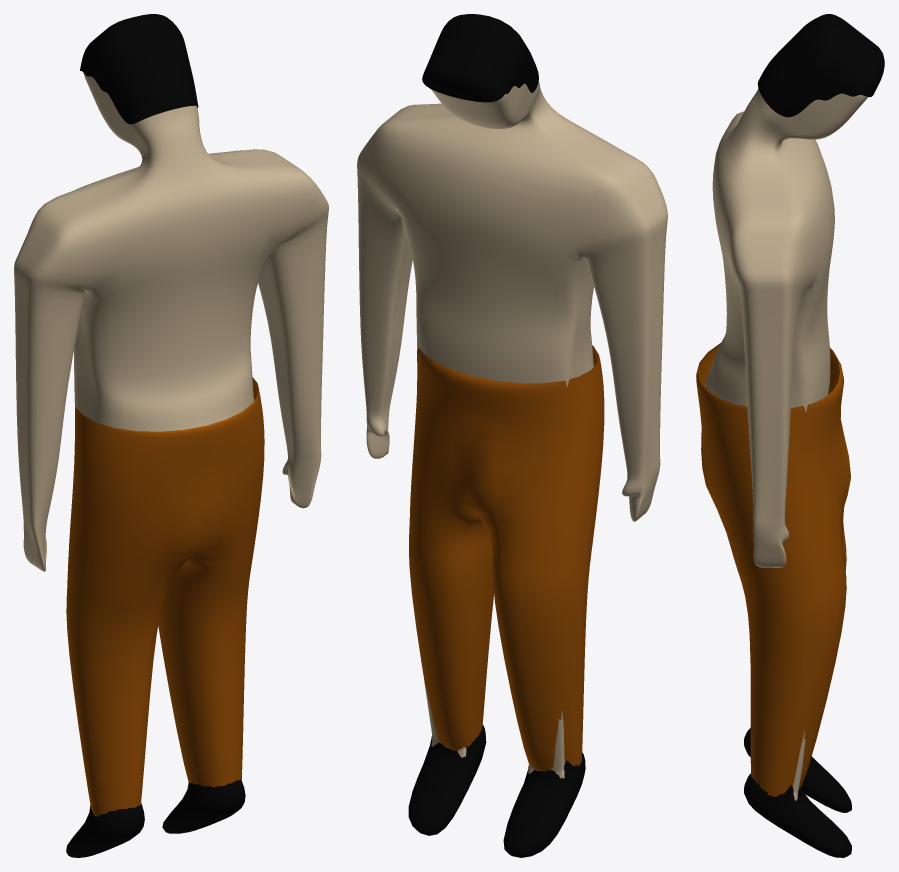
Rendered from person_hanging.glb.
3 renders of one model, left to right at view 1: azimuth 30°, elevation 25°; view 2: azimuth 150°, elevation 25°; view 3: azimuth 270°, elevation 25°, orthographic. The views are drawn at different scales.
Parts seen in each view (by area): view 1: original model, pants, original model.001, shoes; view 2: original model, pants, shoes, original model.001; view 3: original model, pants, original model.001, shoes.
Boxes of the visible parts, x1,y1,x2,y2 form: original model: (14,73,328,789); pants: (66,377,264,816); original model.001: (80,14,198,124); shoes: (66,779,245,857); original model: (357,80,667,778); pants: (409,345,604,771); shoes: (408,724,585,857); original model.001: (422,14,538,102); original model: (705,89,867,800); pants: (696,343,850,796); original model.001: (757,14,884,117); shoes: (744,728,851,857).
Bounding box in the file's own units: 37.44 × 100 × 21.09.
